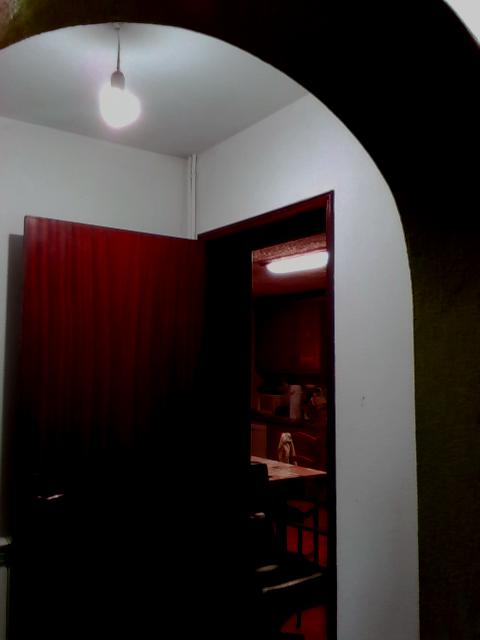open_door: (193, 186, 336, 639)
